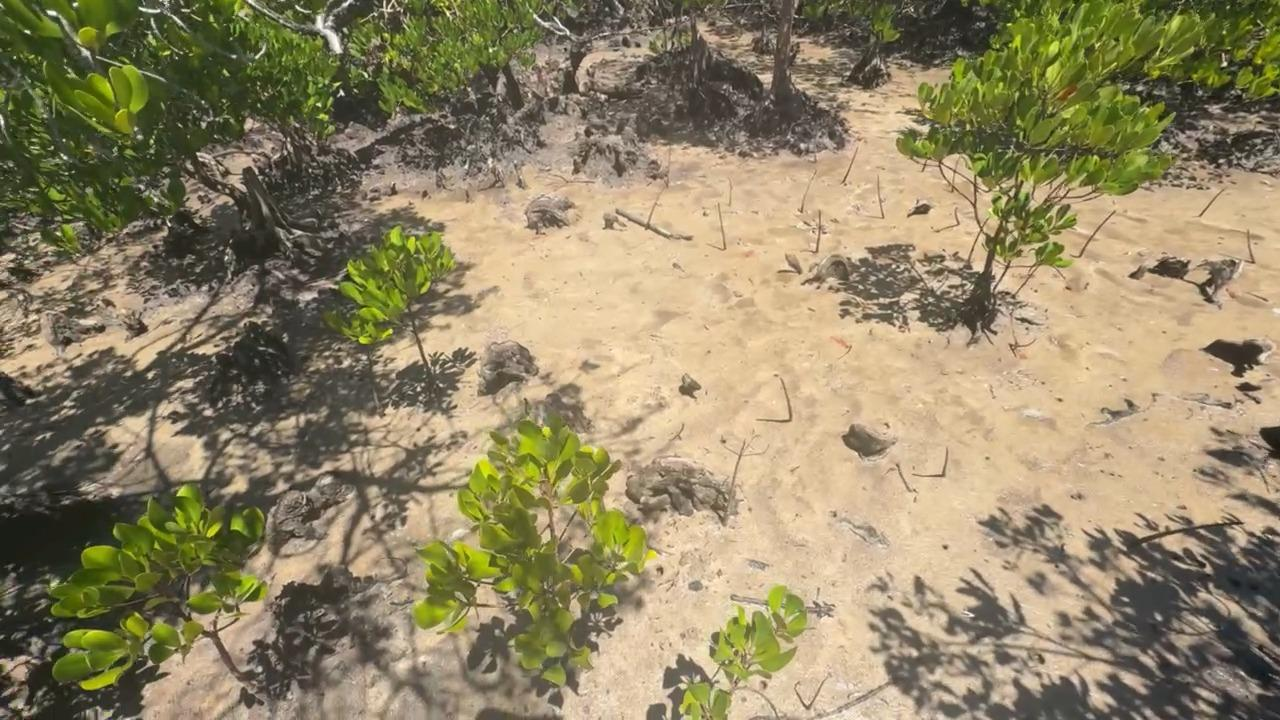Tree: (679, 583, 807, 720), (1011, 242, 1073, 298), (723, 437, 747, 527), (1080, 209, 1117, 257), (966, 214, 990, 265), (1198, 186, 1227, 216), (807, 674, 829, 712), (646, 188, 664, 230), (800, 170, 817, 212), (841, 145, 858, 184), (780, 378, 793, 420), (717, 202, 726, 249), (877, 175, 885, 219), (1246, 228, 1255, 264), (815, 208, 822, 254), (951, 158, 959, 192), (666, 146, 671, 188), (943, 447, 948, 476), (728, 177, 733, 205), (955, 206, 960, 225)
